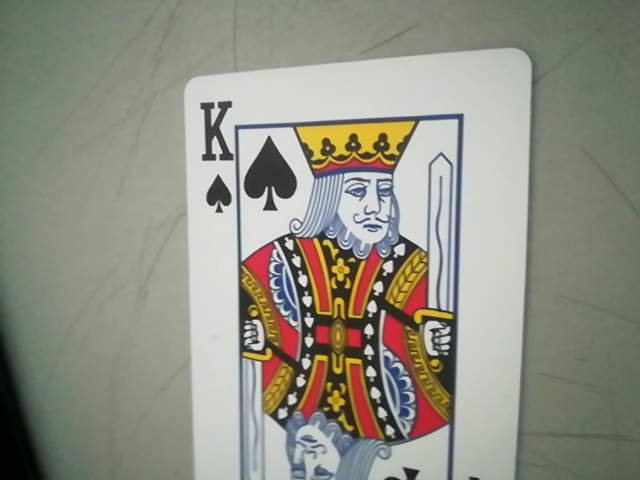ht k: (188, 95, 249, 217)
